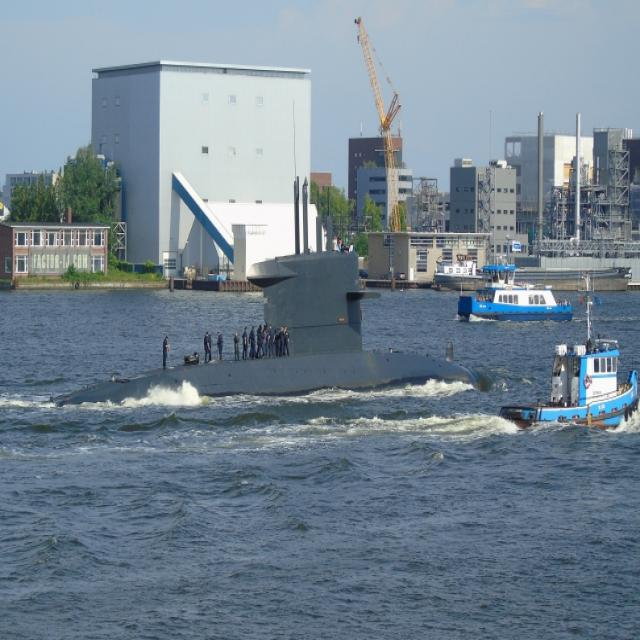submarine: (45, 174, 476, 406)
